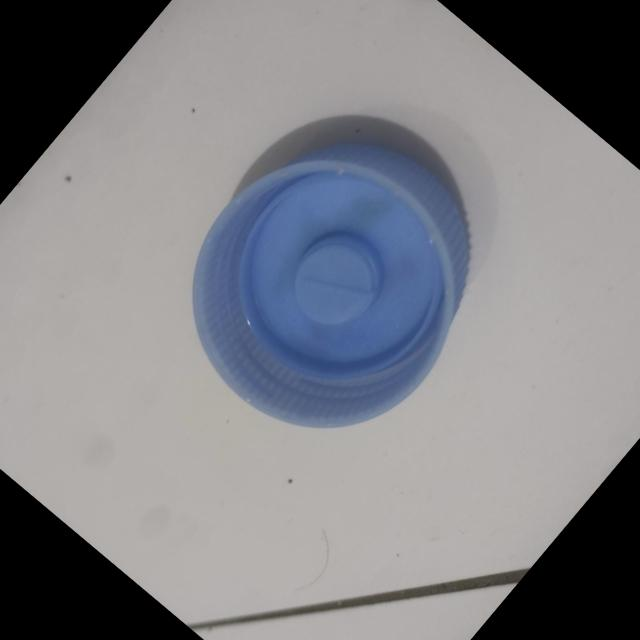TutupGalon: (134, 83, 530, 483)
